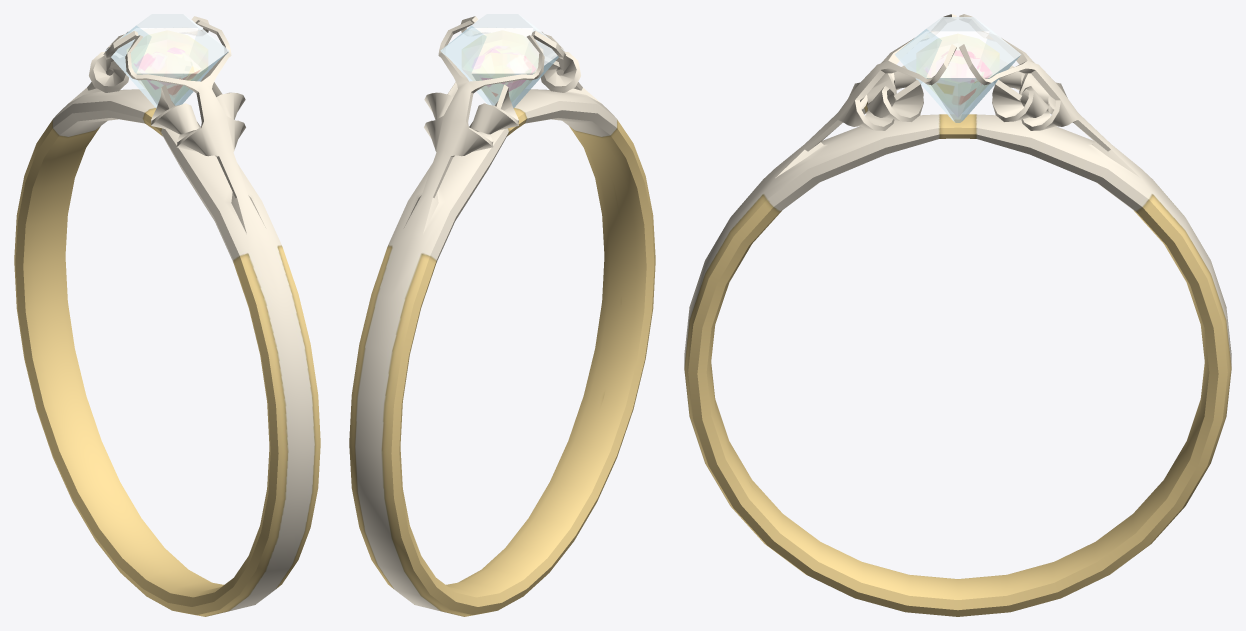
The model's file is the_ring_1_carat.glb.
3 views of the same model, side by side, from view 1: azimuth 30°, elevation 25°; view 2: azimuth 150°, elevation 25°; view 3: azimuth 270°, elevation 25° (orthographic). The views are drawn at different scales.
Parts seen in each view (by area): view 1: Thering; view 2: Thering; view 3: Thering.
Boxes of the visible parts, x1,y1,x2,y2 form: Thering: [14, 14, 320, 616]; Thering: [349, 14, 655, 616]; Thering: [684, 14, 1231, 616].
Size of the model in its own units: 0.3739 by 2 by 1.71.
1 material, 1 textured.
